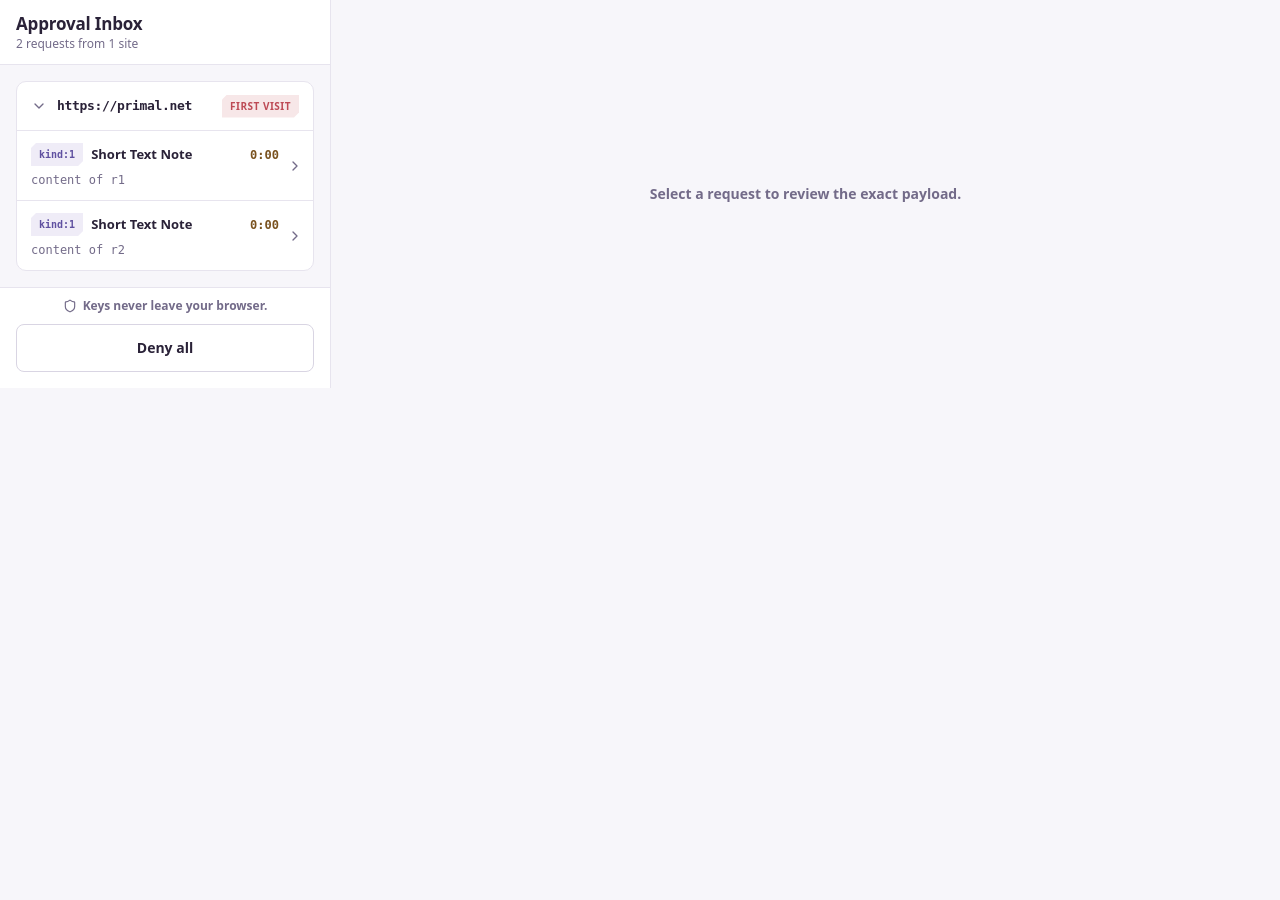
Test case: ApprovalPrompt decisions › never re-binds the pane to the next request after a resolution
Click the button with test id "approval-request-item" at [165, 165], box left=17, top=130, right=313, bottom=200
Wait 600 ms
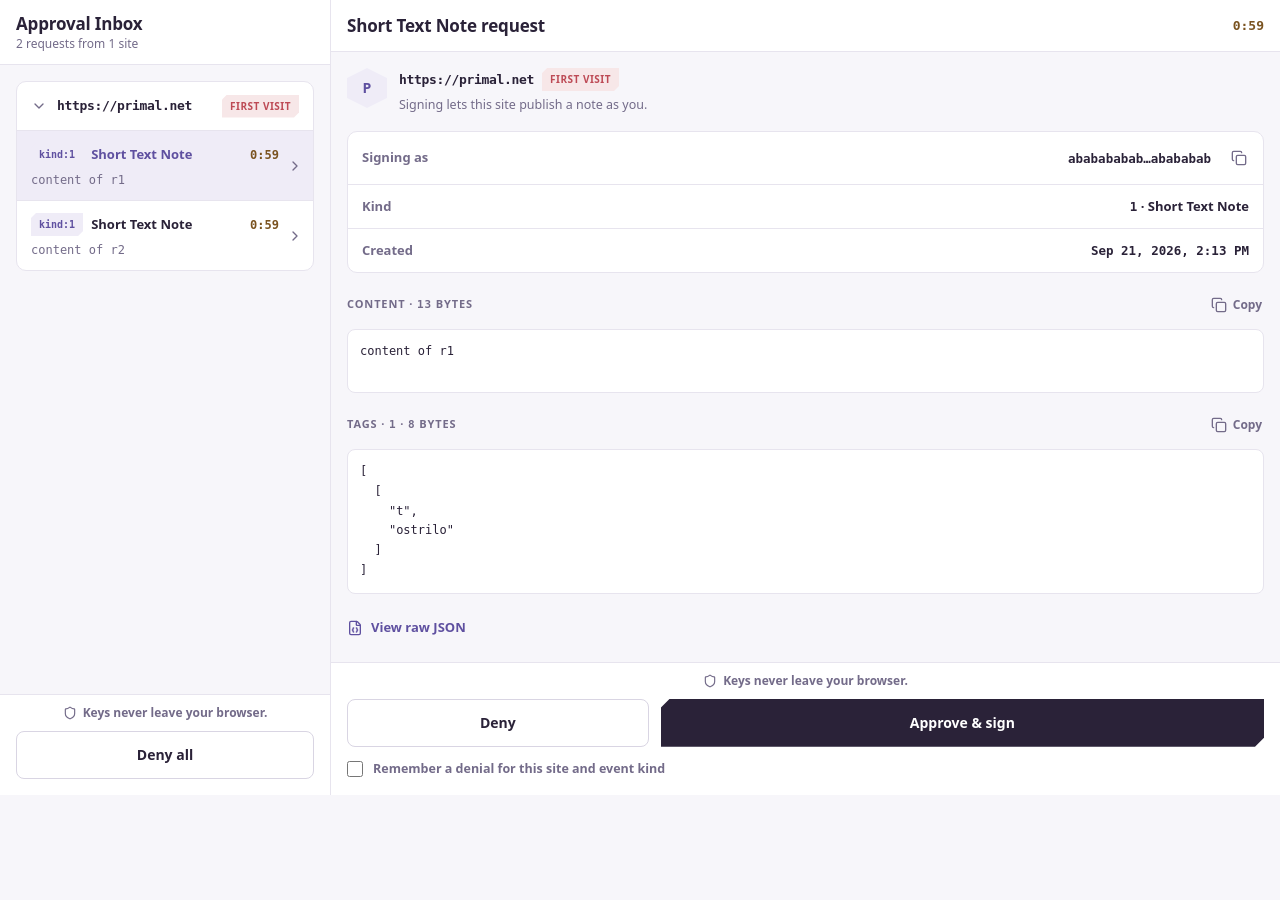
Expected: the element with test id "approval-detail" shows "content of r1", left=360, top=344, right=454, bottom=358
Click the button "Approve & sign" at [962, 723], box left=661, top=699, right=1264, bottom=747
Wait 600 ms
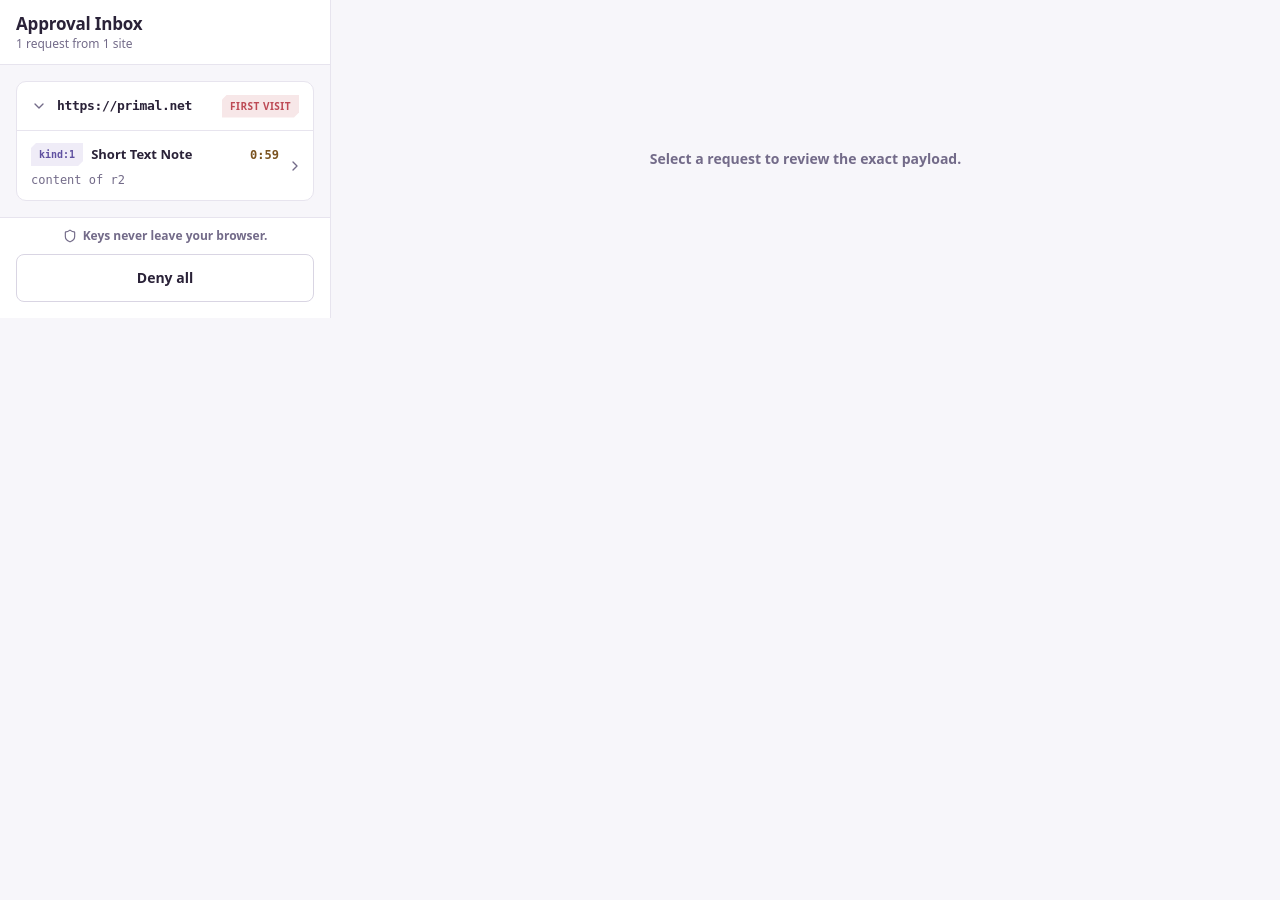
Expected: the element with test id "approval-detail" is gone
